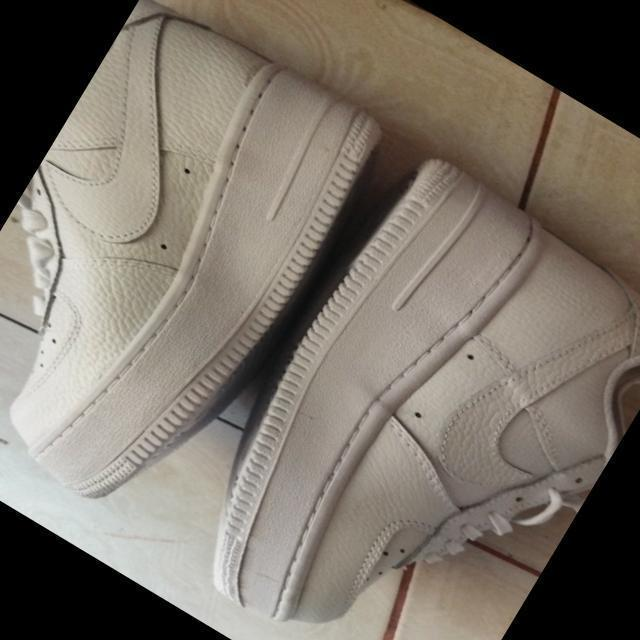nike fake air force: (152, 135, 640, 640), (0, 0, 415, 553)
